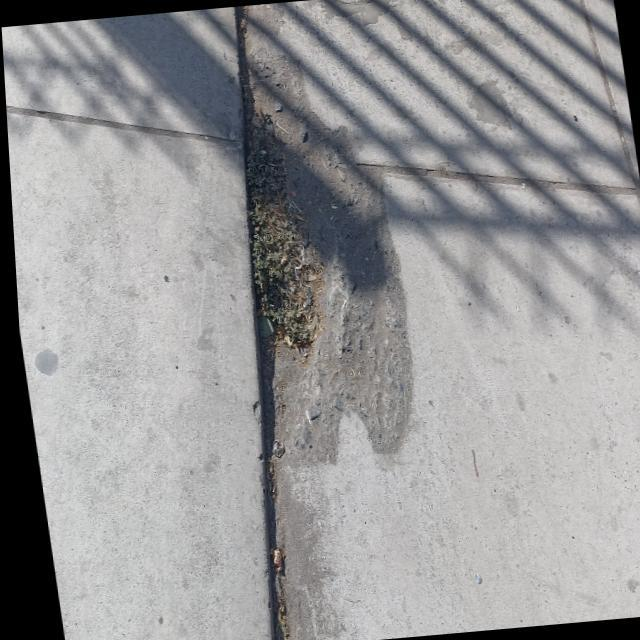hole: (214, 77, 427, 480)
